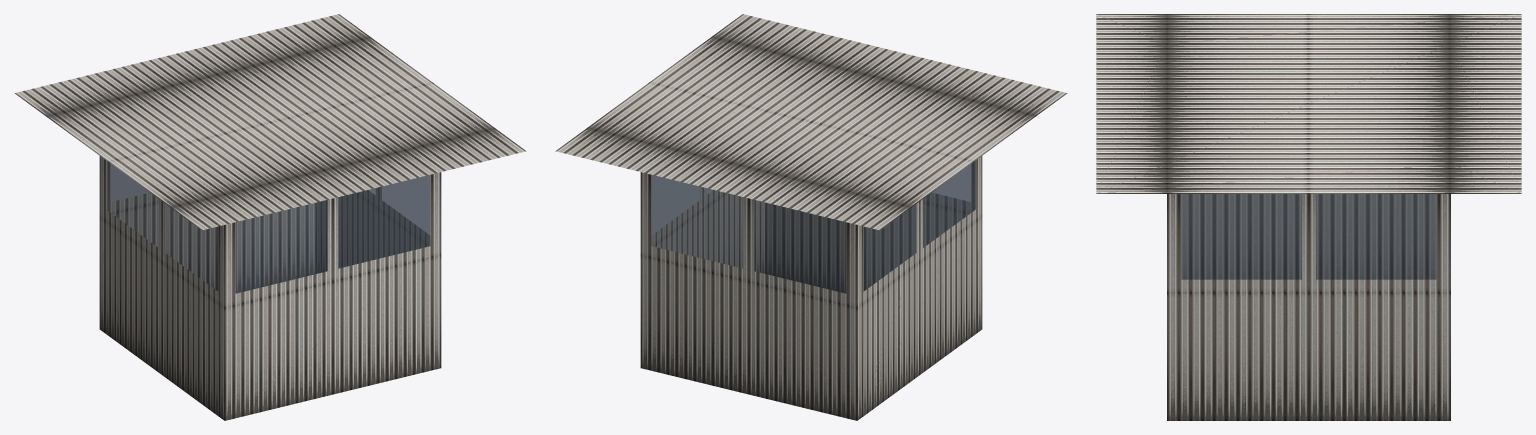
The model's file is LLMGTowerTop.gltf.
3 renders of one model, left to right at view 1: azimuth 30°, elevation 25°; view 2: azimuth 150°, elevation 25°; view 3: azimuth 270°, elevation 25°, orthographic. The views are drawn at different scales.
Parts seen in each view (by area): view 1: node1, node2; view 2: node1, node2; view 3: node1, node2.
Boxes of the visible parts, left/top/right/bottom form: node1: left=14, top=14, right=526, bottom=420; node2: left=106, top=160, right=430, bottom=293; node1: left=555, top=14, right=1067, bottom=420; node2: left=651, top=160, right=975, bottom=293; node1: left=1096, top=14, right=1521, bottom=420; node2: left=1181, top=194, right=1436, bottom=279.
Bounding box in the file's own units: 3 × 2 × 3.
